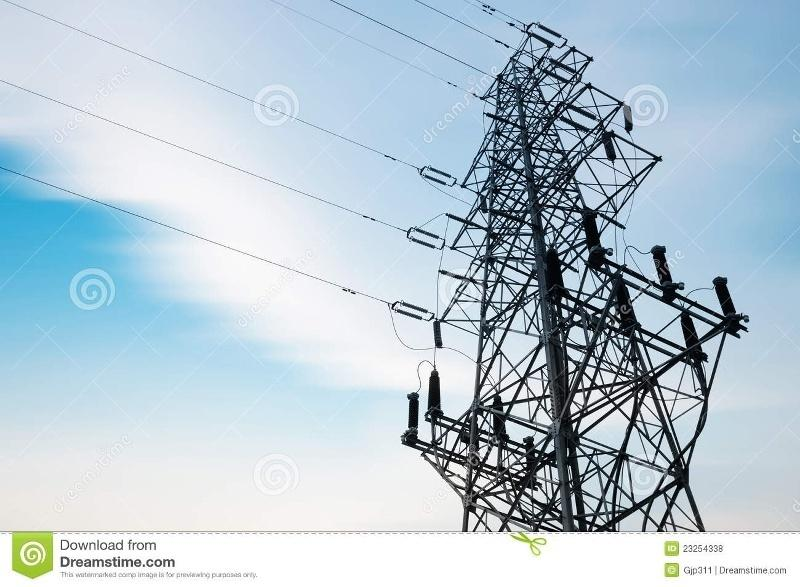power_tower: (412, 43, 724, 530)
